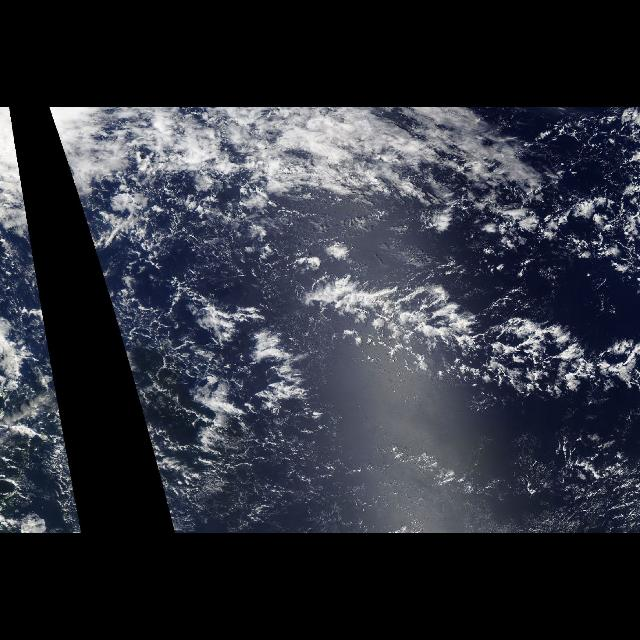Fish: (274, 210, 640, 472)
Gravel: (109, 194, 297, 506)
